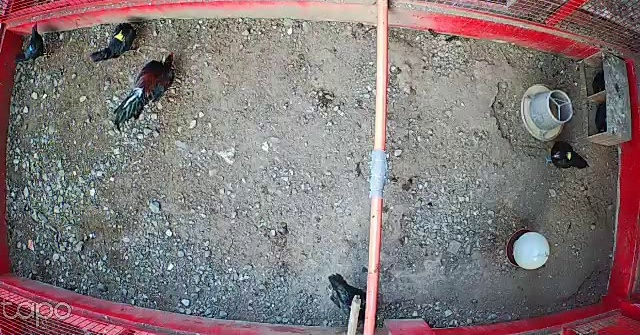Chicken: (89, 14, 157, 63), (323, 269, 369, 330), (539, 135, 593, 174), (13, 20, 53, 67)
Rooster: (111, 46, 183, 125)
Saddle_Color_Blue: (28, 45, 35, 50)
Saddle_Color_Yellow: (114, 31, 129, 42)
